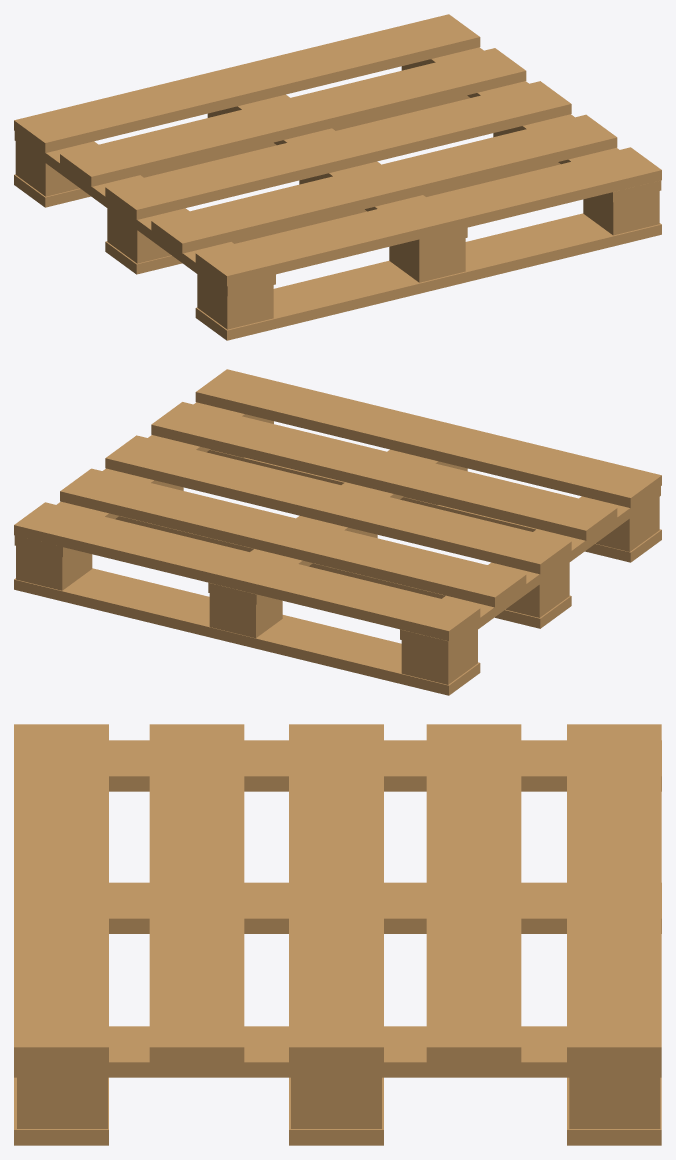
Rendered from palette.dae.
3 views of the same model, one above another, from view 1: azimuth 30°, elevation 25°; view 2: azimuth 150°, elevation 25°; view 3: azimuth 270°, elevation 25° (orthographic). The views are drawn at different scales.
Parts seen in each view (by area): view 1: Cube_011; view 2: Cube_011; view 3: Cube_011.
Boxes of the visible parts, bbox=[...] form: Cube_011: bbox=[14, 14, 661, 340]; Cube_011: bbox=[14, 369, 661, 695]; Cube_011: bbox=[14, 724, 661, 1145].
Size of the model in its own units: 4.5 by 3.82 by 0.6385.
